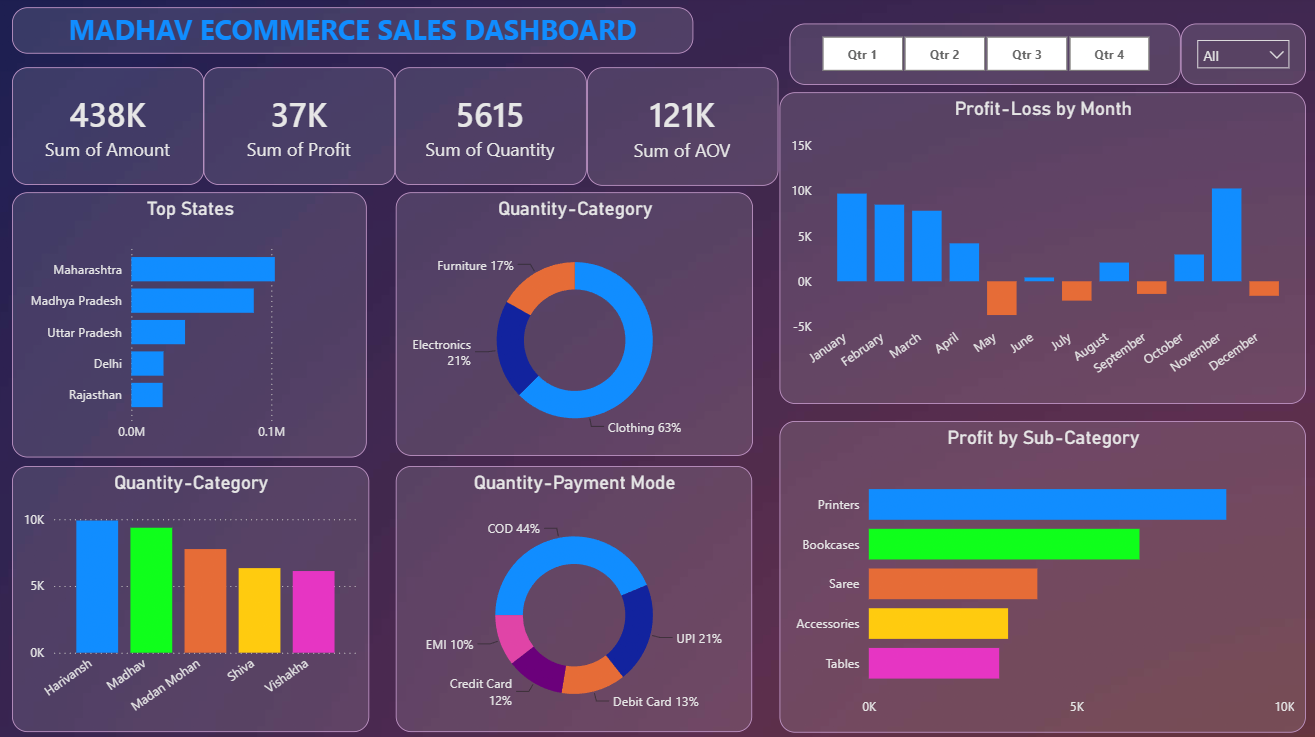

The dashboard page shown, as its layout file describes it:
{"tool":"powerbi","page":{"name":"Page 1","canvas":[1280,720],"ordinal":0},"visuals":[{"type":"textbox","box":[19.3,10.9,657.5,44.6],"z":0},{"type":"columnChart","title":"Profit-Loss by Month","fields":{"Y":["Sum(Details.Profit)"],"Category":["Orders.Order Date.Variation.Date Hierarchy.Month"]},"box":[760.2,93.3,507.7,300.5],"z":1000},{"type":"barChart","title":"Profit by Sub-Category","fields":{"Category":["Details.Sub-Category"],"Y":["Sum(Details.Profit)"]},"box":[760.1,410.2,507.9,300.4],"z":2000},{"type":"donutChart","title":"Quantity-Payment Mode","fields":{"Y":["Sum(Details.Quantity)"],"Category":["Details.PaymentMode"]},"box":[389.7,453.6,343.8,257],"z":3000},{"type":"columnChart","title":"Quantity-Category","fields":{"Category":["Orders.CustomerName"],"Y":["Sum(Details.Amount)"]},"box":[19.2,454.2,344.4,256.6],"z":4000},{"type":"barChart","title":"Top States","fields":{"Category":["Orders.State"],"Y":["Sum(Details.Amount)"]},"box":[19.3,189.4,342.6,255.8],"z":5000},{"type":"donutChart","title":"Quantity-Category","fields":{"Category":["Details.Category"],"Y":["Sum(Details.Quantity)"]},"box":[389.7,189.4,345,254.6],"z":6000},{"type":"cardVisual","fields":{"Data":["Sum(Details.Amount)"]},"box":[19.3,68.8,185.8,113.4],"z":7000},{"type":"cardVisual","fields":{"Data":["Sum(Details.Profit)"]},"box":[203.9,68.8,185.2,113.9],"z":8000},{"type":"cardVisual","fields":{"Data":["Details.Total Quantity"]},"box":[389,69,185.2,113.9],"z":9000},{"type":"cardVisual","fields":{"Data":["Sum(Details.AvgOrderValue)"]},"box":[574,69,184.6,114.6],"z":10000},{"type":"slicer","fields":{"Values":["Orders.Order Date.Variation.Date Hierarchy.Quarter"]},"box":[769.8,26.1,377.4,59],"z":11000},{"type":"slicer","fields":{"Values":["Orders.State"]},"box":[1147.2,26.1,120.8,59],"z":12000}]}

Visuals, with their boxes in screenshot pixels (x1, y1, x2, y2), scaled from the page's 1280x720 canvas onto the 1315x737 screenshot:
textbox: {"x1": 20, "y1": 11, "x2": 695, "y2": 57}
"Profit-Loss by Month" columnChart: {"x1": 781, "y1": 96, "x2": 1303, "y2": 403}
"Profit by Sub-Category" barChart: {"x1": 781, "y1": 420, "x2": 1303, "y2": 727}
"Quantity-Payment Mode" donutChart: {"x1": 400, "y1": 464, "x2": 754, "y2": 727}
"Quantity-Category" columnChart: {"x1": 20, "y1": 465, "x2": 374, "y2": 728}
"Top States" barChart: {"x1": 20, "y1": 194, "x2": 372, "y2": 456}
"Quantity-Category" donutChart: {"x1": 400, "y1": 194, "x2": 755, "y2": 454}
cardVisual - Sum(Details.Amount): {"x1": 20, "y1": 70, "x2": 211, "y2": 187}
cardVisual - Sum(Details.Profit): {"x1": 209, "y1": 70, "x2": 400, "y2": 187}
cardVisual - Details.Total Quantity: {"x1": 400, "y1": 71, "x2": 590, "y2": 187}
cardVisual - Sum(Details.AvgOrderValue): {"x1": 590, "y1": 71, "x2": 779, "y2": 188}
slicer - Orders.Order Date.Variation.Date Hierarchy.Quarter: {"x1": 791, "y1": 27, "x2": 1179, "y2": 87}
slicer - Orders.State: {"x1": 1179, "y1": 27, "x2": 1303, "y2": 87}
